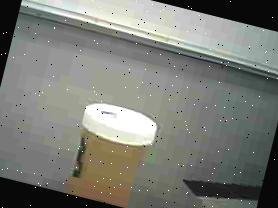Bottle B: (56, 88, 170, 208)
